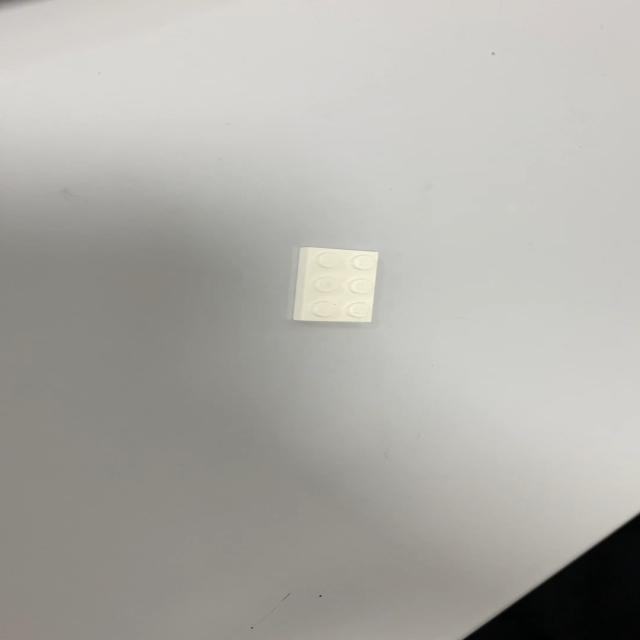C3x2x0: (291, 245, 379, 322)
